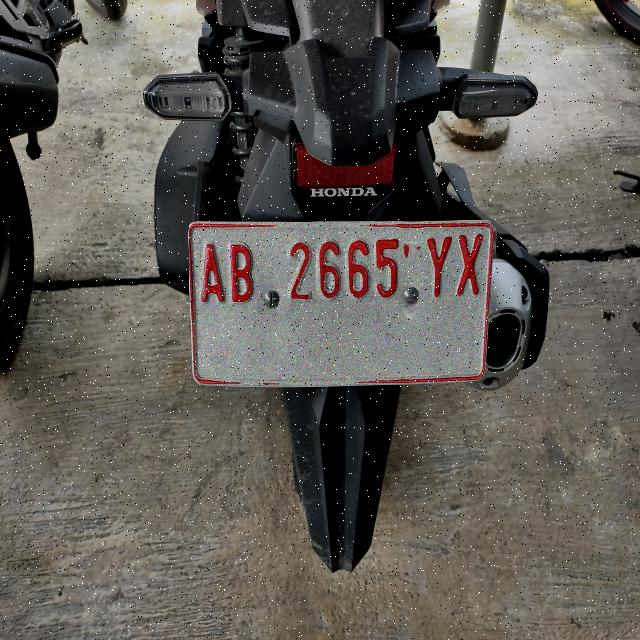plate: (189, 222, 493, 385)
